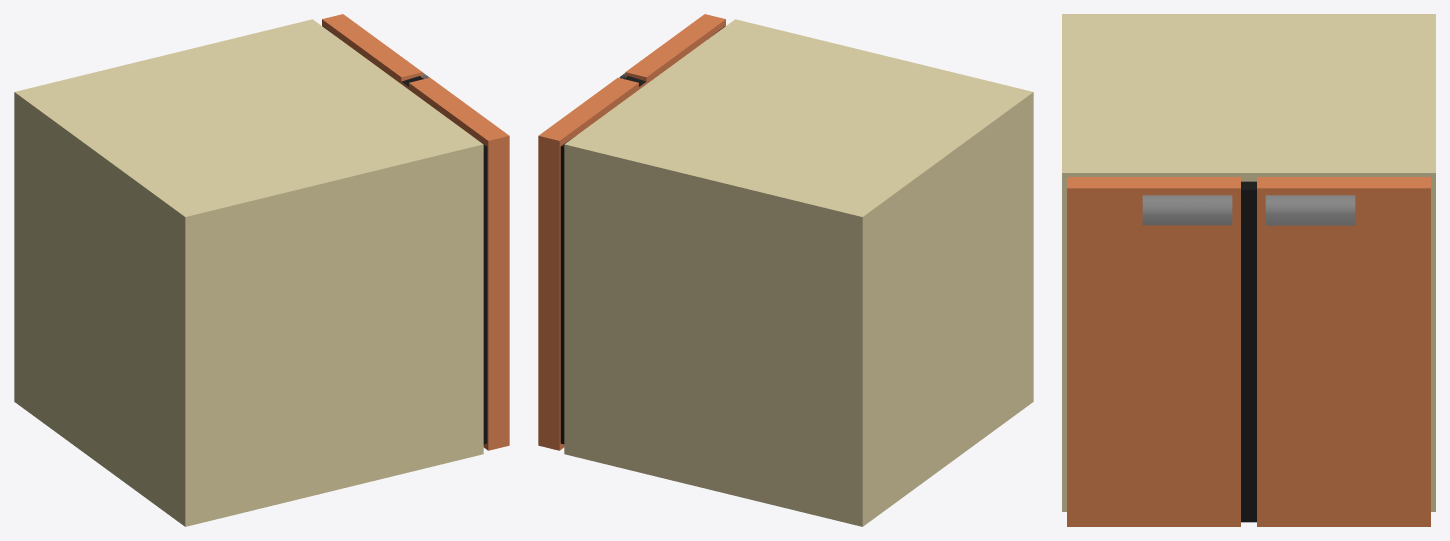
The model's file is SM_Countertop_01.fbx.
The picture shows the model from 3 angles, left to right: view 1: azimuth 30°, elevation 25°; view 2: azimuth 150°, elevation 25°; view 3: azimuth 270°, elevation 25°; orthographic projection. The views are drawn at different scales.
Parts seen in each view (by area): view 1: SM_Countertop_01; view 2: SM_Countertop_01; view 3: SM_Countertop_01.
Part boxes in pixels (x1,y1,x2,y2): SM_Countertop_01: (14,14,509,526); SM_Countertop_01: (538,14,1033,526); SM_Countertop_01: (1062,14,1435,526).
Size of the model in its own units: 1.15 by 1 by 1.
